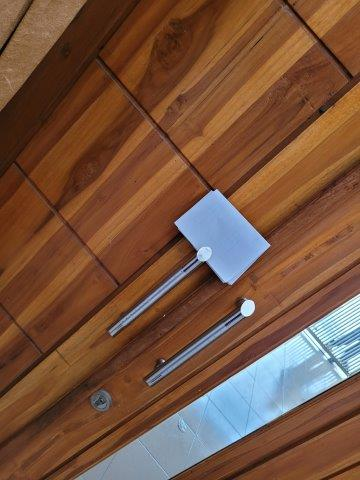kertas: (175, 190, 271, 285)
